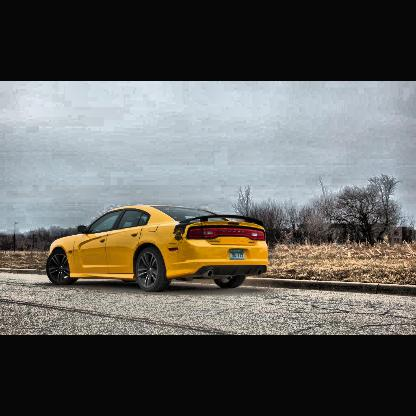Dodge Charger Sedan 2012: (47, 204, 272, 295)
